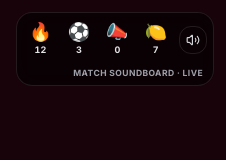
Test: match soundboard & live reactions › floats the four reaction bubbles over the stream with live counters
Expected: the text "12" is shown, [35, 43, 46, 56]
Note: Tapping spawns a floating bubble, plays its soundboard tone and bumps the counter.
Click the button "⚽ 3" at (79, 40), box [62, 19, 96, 60]
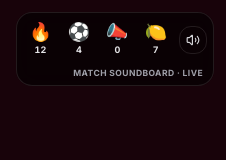
Expected: the text "4" is shown, [76, 43, 82, 56]
